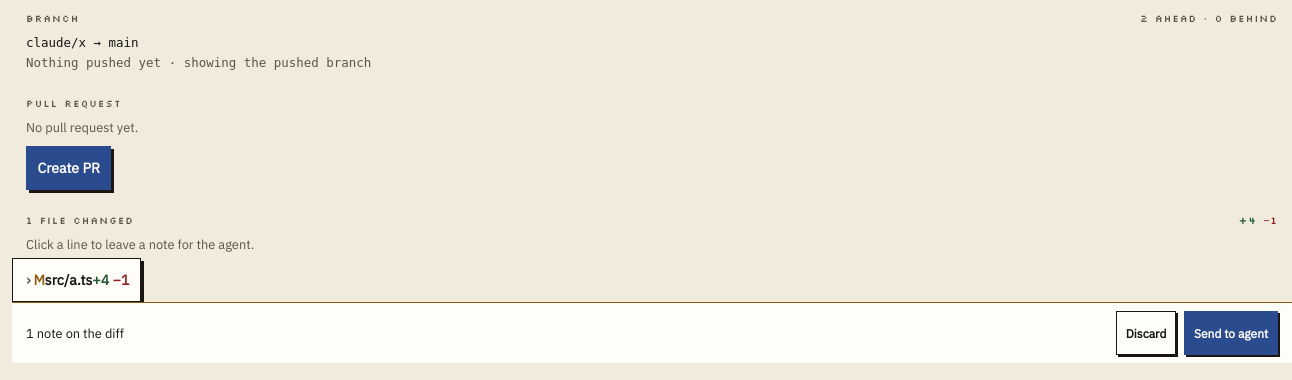
Test case: diff notes › stay when the send fails, with a message
The image size is (1292, 380).
Click the button "Send to agent" at (1231, 333), box [1184,311,1278,355]
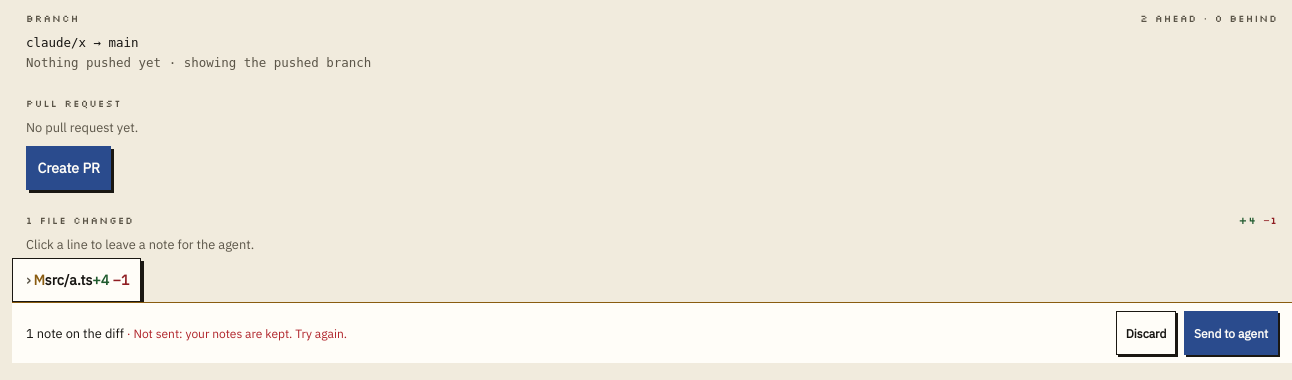
Expected: the element with class "git-notes-bar" shows "1 note on the diff", [12,302,1291,363]
Expected: the message with class "git-notes-error" shows "kept", [133,326,347,341]
